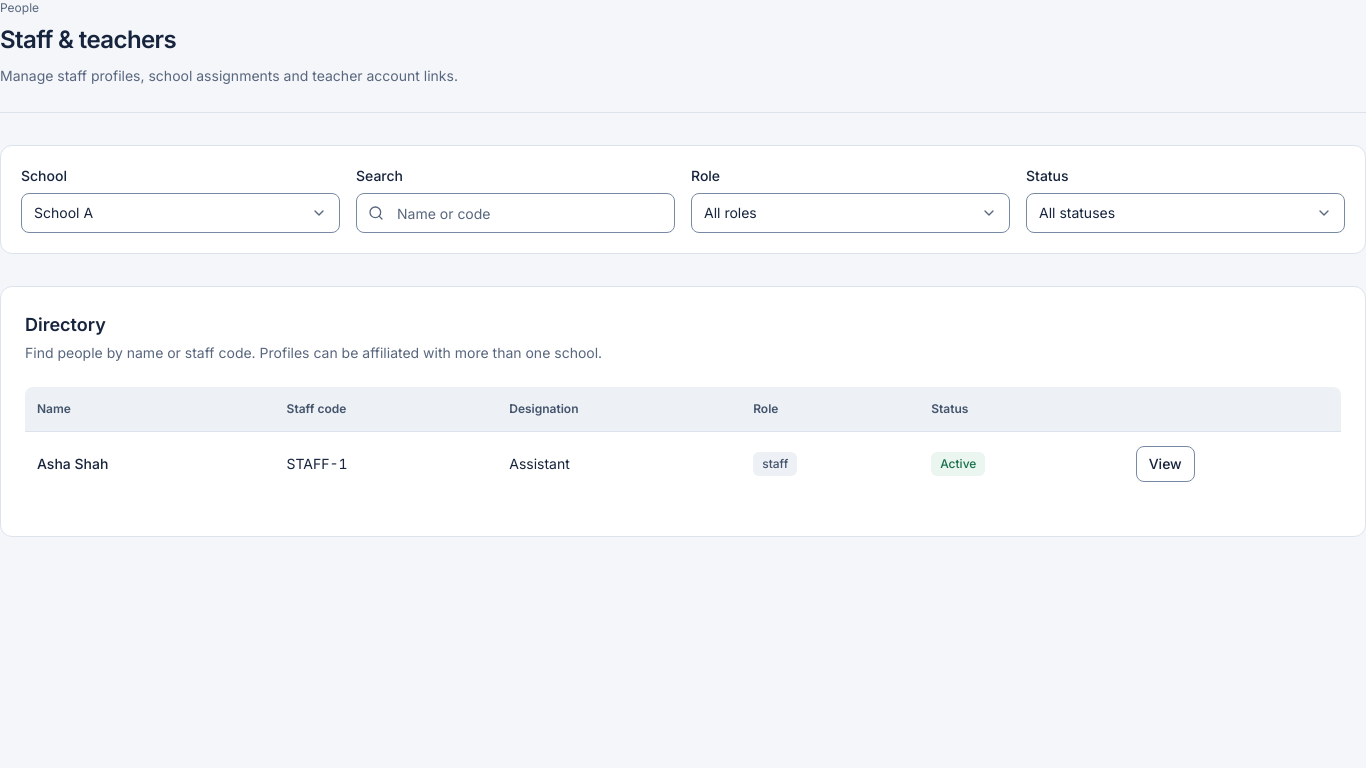
Scenario: staff directory interactions › lets a source reader add a profile to a school they manage
This screenshot has width=1366, height=768.
Click the button with aria-label "View Asha Shah profile" at coordinates (1165, 464), box [1136,446,1195,482]
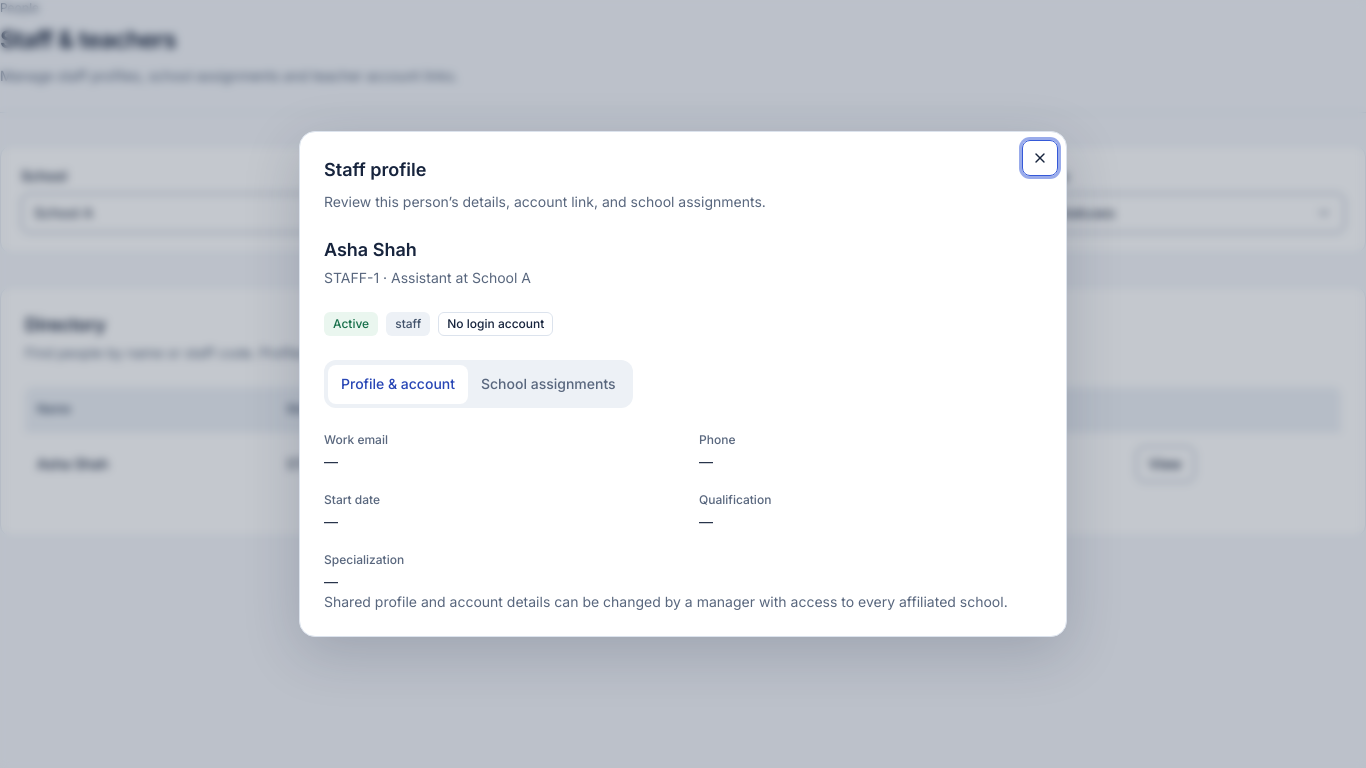
Click the tab "School assignments" at coordinates (548, 384), box [468,364,629,404]
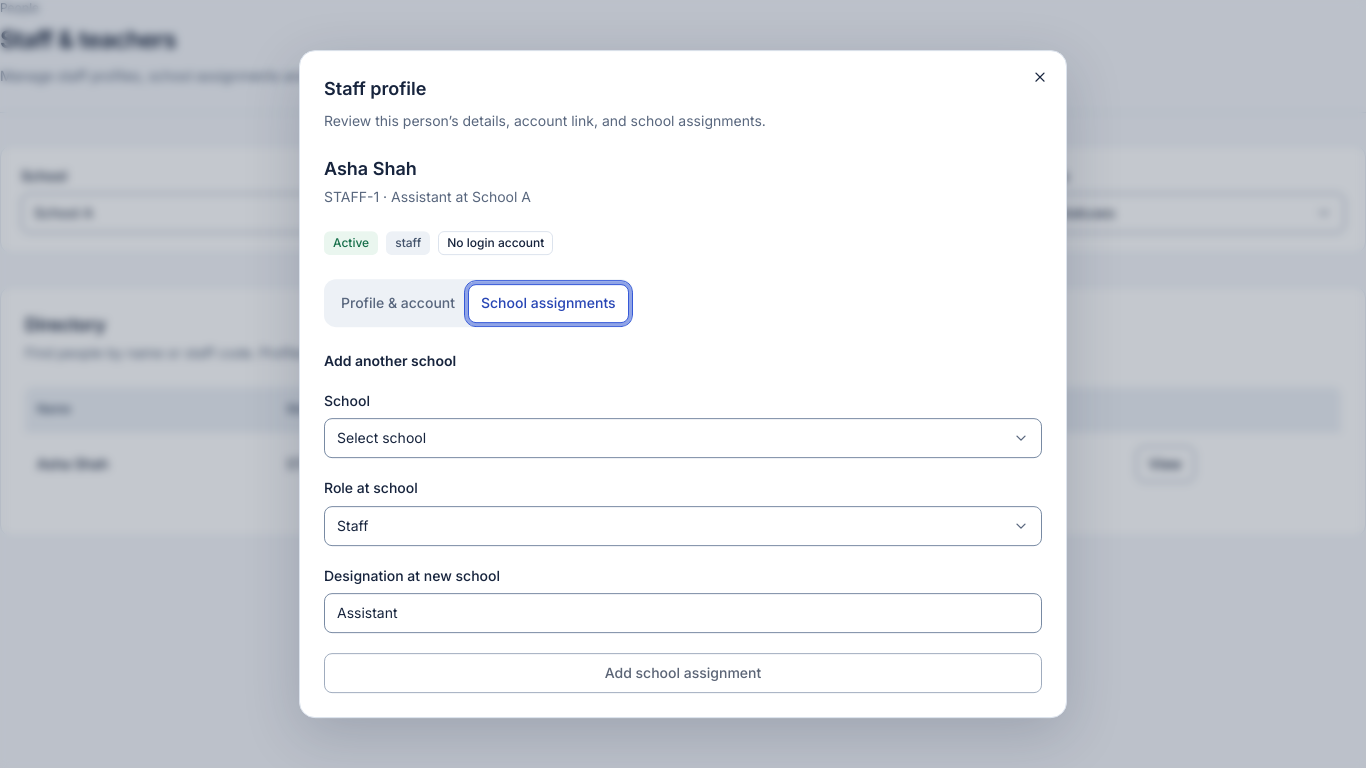
Check: the heading "Add another school" is shown, box [324,352,456,369]
